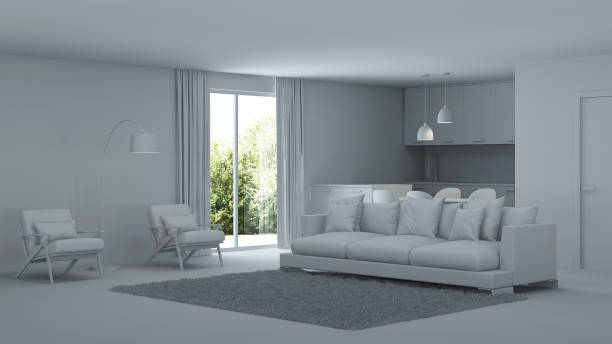chair: (15, 205, 106, 286), (145, 203, 227, 271)
floor lamp: (91, 116, 162, 272)
sofa: (275, 179, 561, 301)
